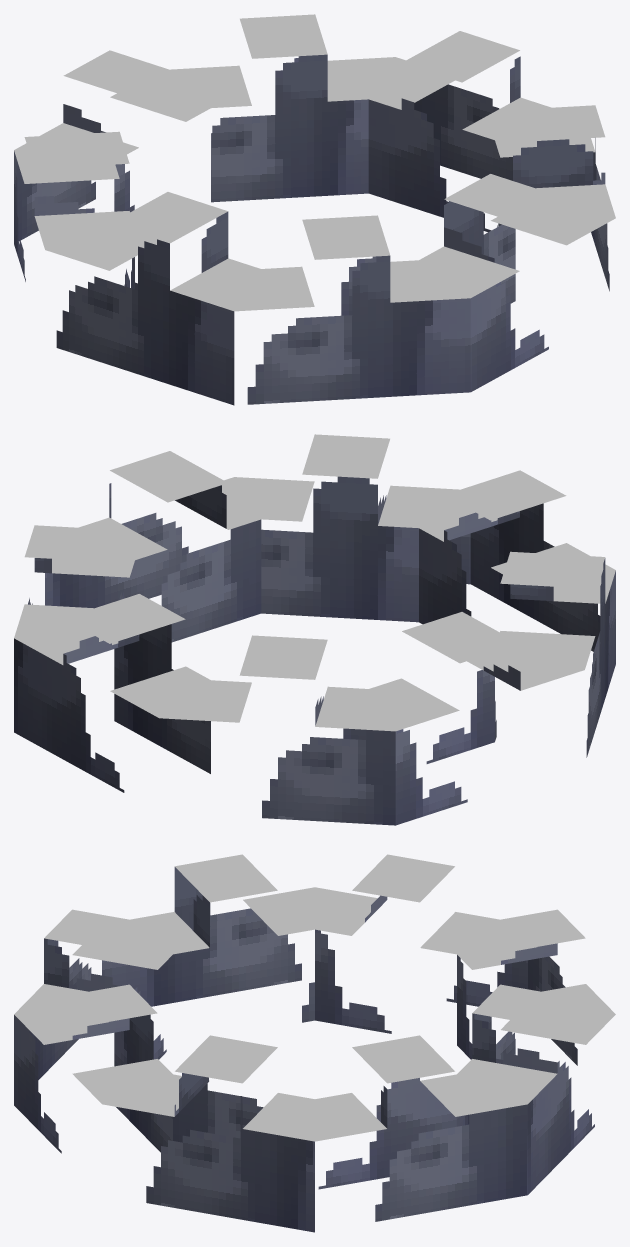
The model's file is tower_top.dae.
3 views of the same model, one above another, from view 1: azimuth 30°, elevation 25°; view 2: azimuth 150°, elevation 25°; view 3: azimuth 270°, elevation 25° (orthographic). The views are drawn at different scales.
Parts seen in each view (by area): view 1: tower_top; view 2: tower_top; view 3: tower_top.
Part boxes in pixels (bbox=[...]): tower_top: bbox=[14, 14, 615, 405]; tower_top: bbox=[14, 434, 615, 825]; tower_top: bbox=[14, 854, 615, 1232].
Size of the model in its own units: 1.2 by 0.3 by 1.2.
